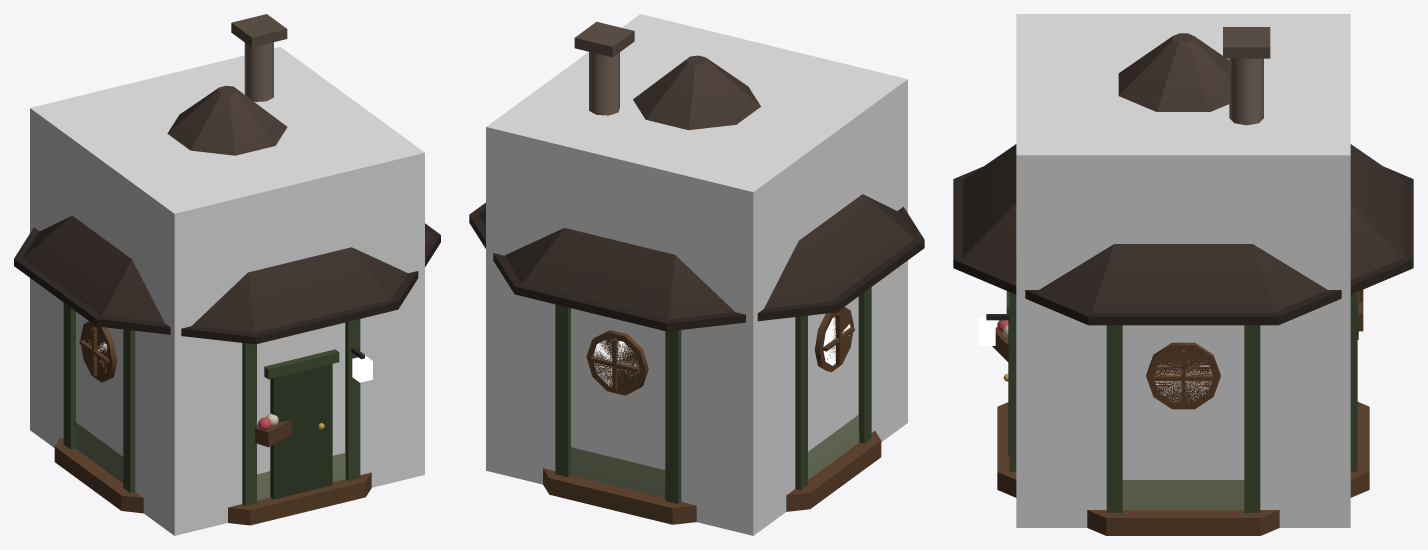
The model's file is casa_copa_salvia.glb.
3 renders of one model, left to right at view 1: azimuth 30°, elevation 25°; view 2: azimuth 150°, elevation 25°; view 3: azimuth 270°, elevation 25°, orthographic. The views are drawn at different scales.
Visible parts, largest first — view 1: COL_0, casa_copa_salvia_Malla; view 2: COL_0, casa_copa_salvia_Malla; view 3: COL_0, casa_copa_salvia_Malla.
Part boxes in pixels (box(x1,y1,x2,y2)): COL_0: box(30, 47, 424, 535); casa_copa_salvia_Malla: box(14, 14, 440, 525); COL_0: box(486, 14, 907, 535); casa_copa_salvia_Malla: box(469, 21, 924, 524); COL_0: box(1016, 14, 1350, 527); casa_copa_salvia_Malla: box(953, 27, 1413, 535).
Bounding box in the file's own units: 5.82 × 6.33 × 5.82.
